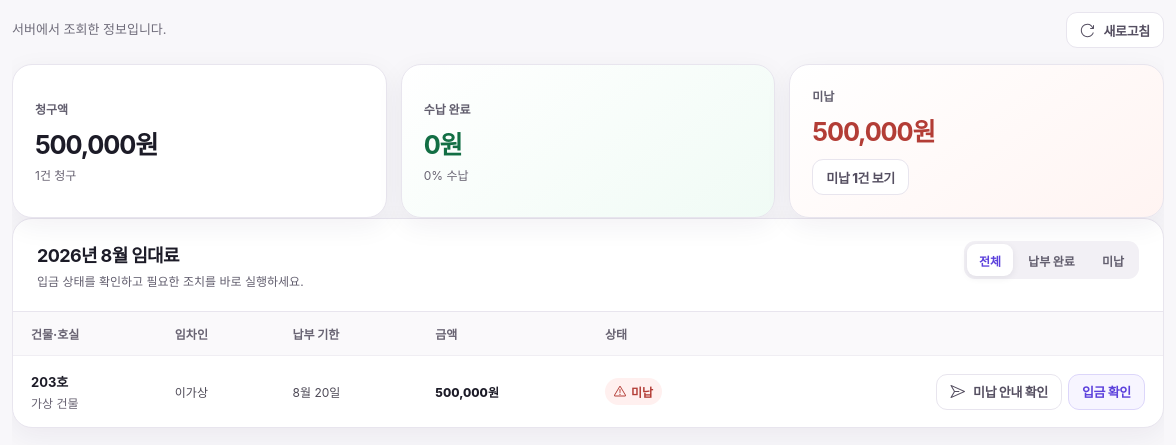
Test case: 실제 Query 캐시를 사용하는 운영 화면 › 세션이 만료되면 캐시에 남은 임차인 정보를 숨기고 로그인을 안내한다
Click the button with aria-label "임대 장부 새로고침". click: x=1115, y=30
box: [1066,12,1164,48]
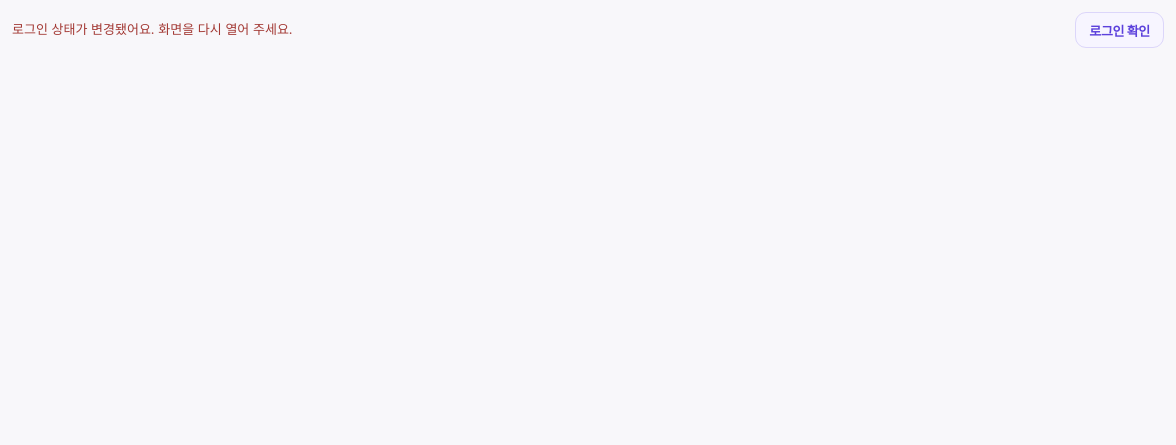
Expected: the message shows "로그인 상태가 변경됐어요", [12,21,293,37]
Expected: the text "이가상" is gone
